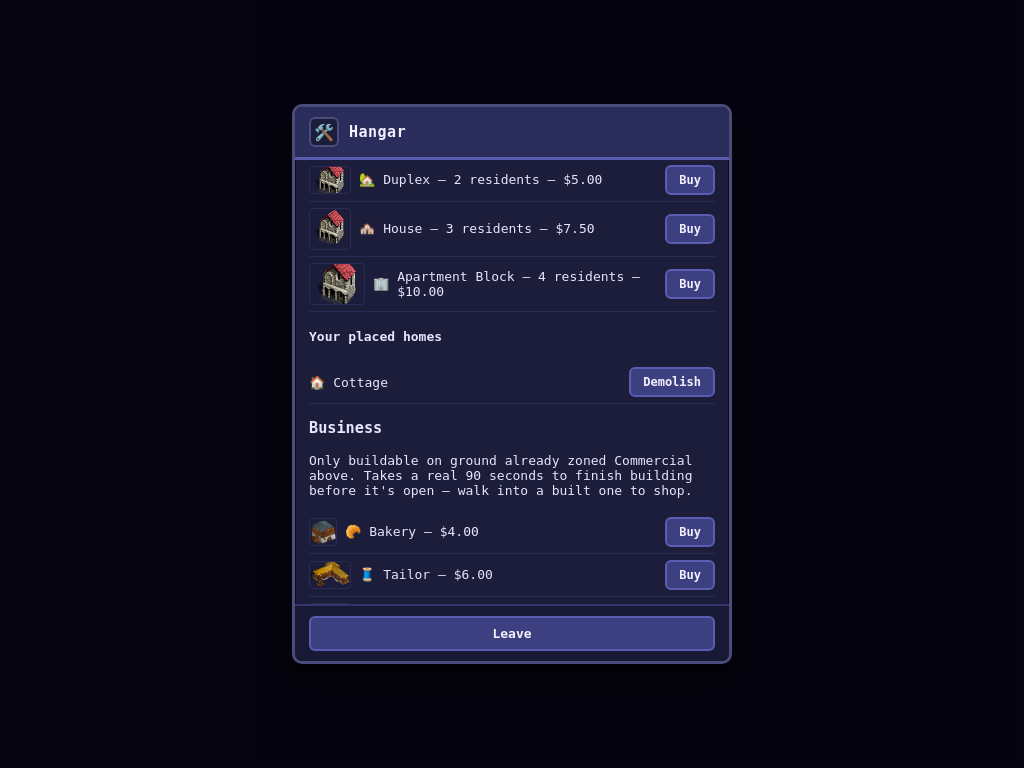
Scenario: HangarOverlay › Demolish (wave3-economy-depth.md decision #3) › demolishing a finished home refunds half its price
This screenshot has width=1024, height=768.
(page scrolled)
Expected: the heading "Your placed homes" is shown, [309,329,442,344]
Click the button "Demolish": point(672, 382) [629,367,715,397]
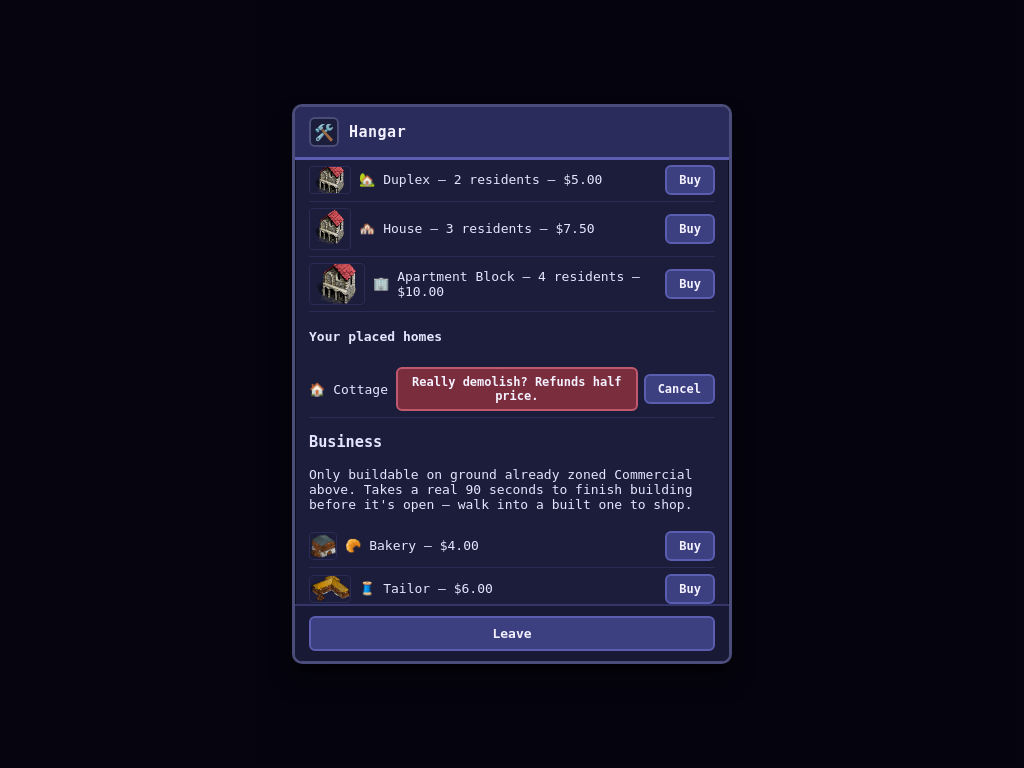
Click the button "Really demolish? Refunds half price.": point(517, 389) [396,367,638,411]
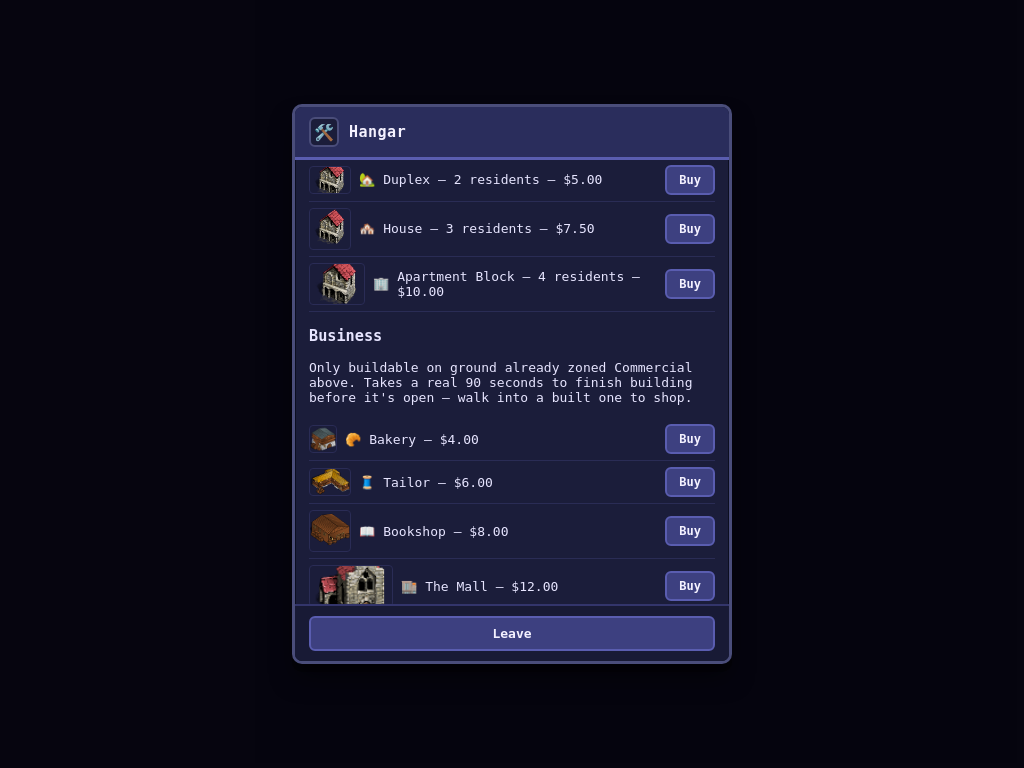
Result: the heading "Your placed homes" is gone
